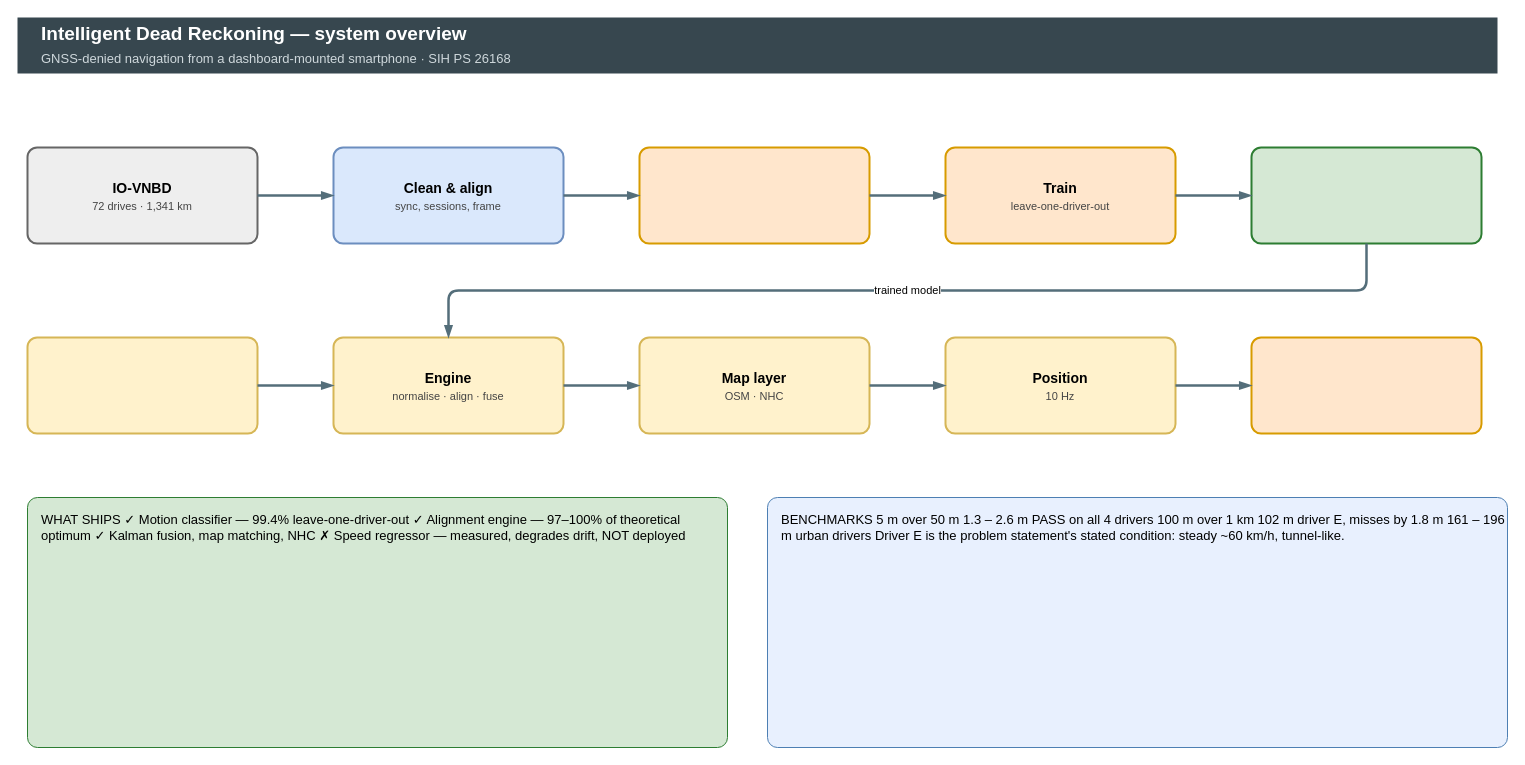
Image size: 1525x765. Some labels were removed from this diagram. The box of each missing label's shape, as (x1, y1, x2, y2) in pixels:
App Kotlin · Compose: (1250, 336, 1482, 434)
Features 26 per 2 s window: (638, 146, 870, 244)
Models classifier + regressor: (1250, 146, 1482, 244)
Phone sensors IMU + GNSS: (26, 336, 258, 434)
